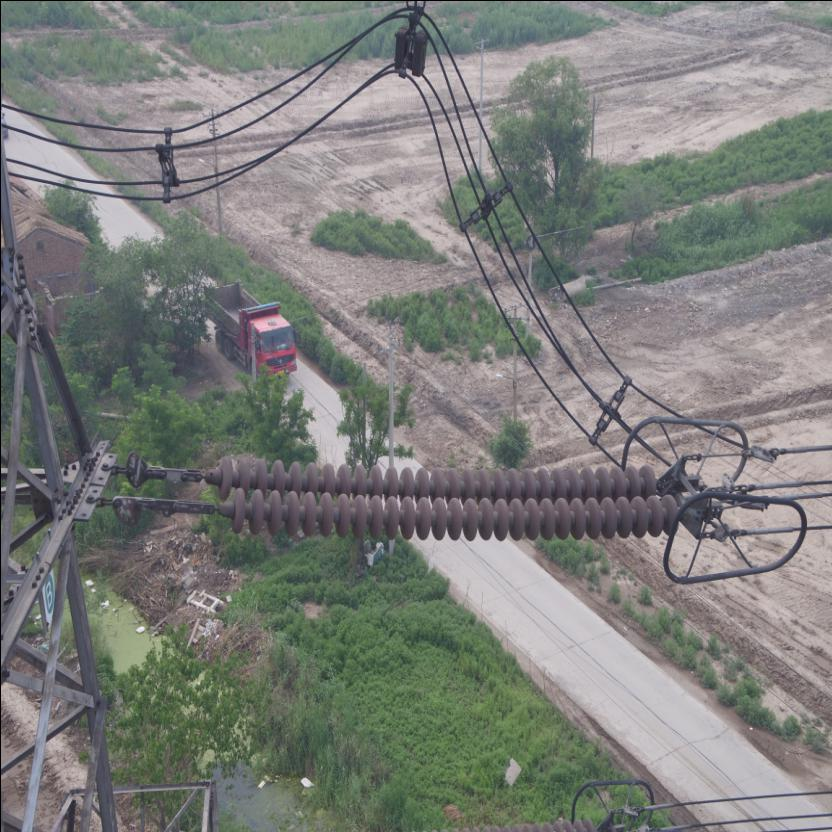insulator: (166, 448, 688, 537)
